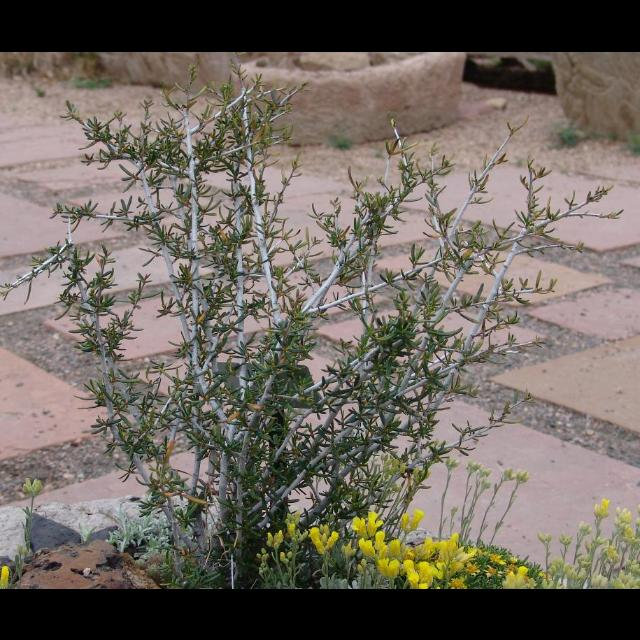Flower: (344, 508, 480, 588), (482, 550, 552, 588), (361, 533, 387, 563), (398, 507, 424, 528), (0, 564, 10, 588)
